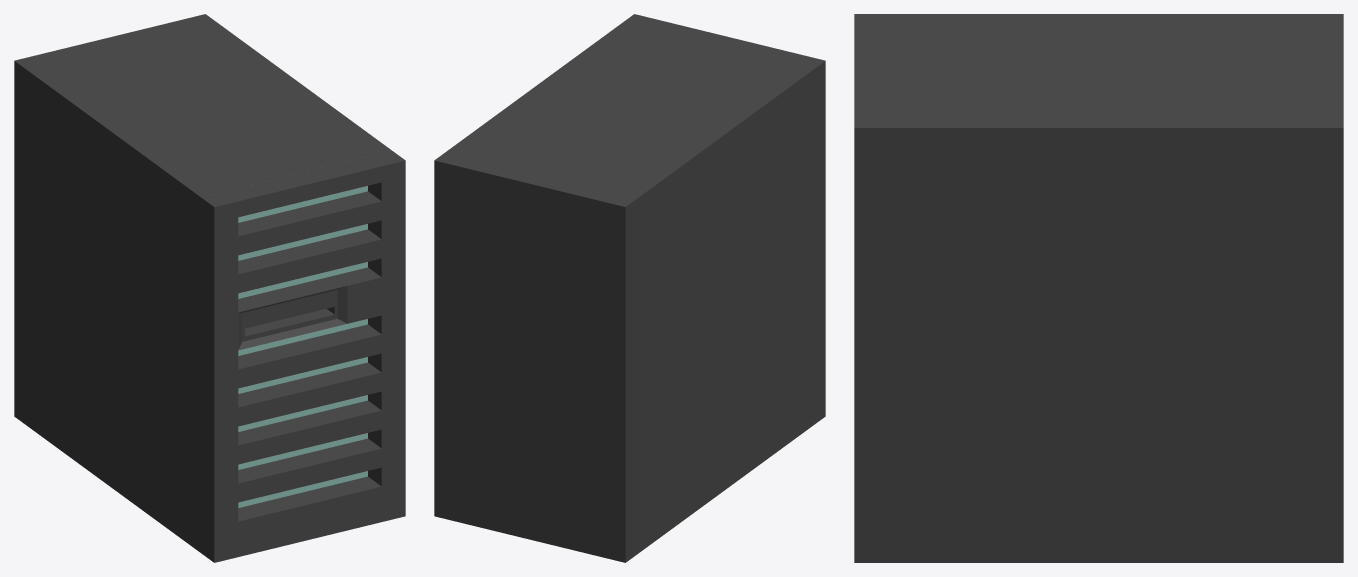
Rendered from serverTower.fbx.
3 views of the same model, side by side, from view 1: azimuth 30°, elevation 25°; view 2: azimuth 150°, elevation 25°; view 3: azimuth 270°, elevation 25° (orthographic). The views are drawn at different scales.
Visible parts, largest first — view 1: pCube1, pasted__pCube2; view 2: pCube1, pasted__pCube2; view 3: pCube1, pasted__pCube2.
Boxes of the visible parts, box(x1,y1,x2,y2) form: pCube1: box(14, 14, 391, 552); pasted__pCube2: box(200, 150, 405, 562); pCube1: box(434, 24, 811, 562); pasted__pCube2: box(621, 14, 825, 425); pCube1: box(888, 14, 1343, 562); pasted__pCube2: box(854, 14, 888, 562).
Size of the model in its own units: 7.99 by 14.21 by 14.48.
